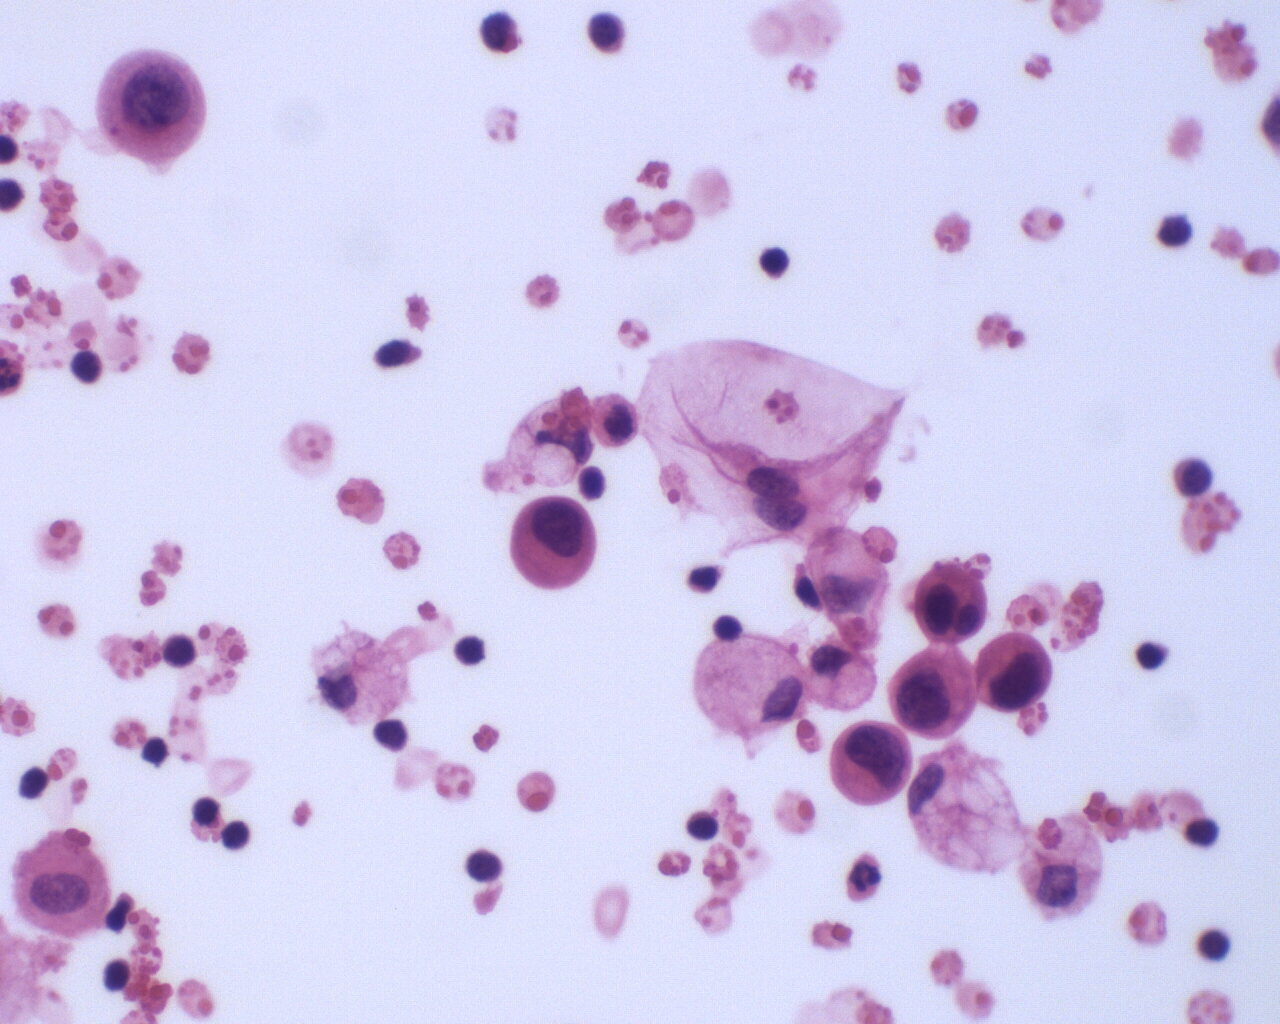ab: (95, 42, 210, 166), (497, 493, 608, 596), (889, 643, 979, 743), (827, 716, 914, 810), (978, 625, 1054, 718)
histo: (909, 743, 1026, 881), (690, 627, 809, 738), (1018, 811, 1110, 928), (802, 633, 880, 719)
lymph: (583, 8, 634, 59), (463, 839, 507, 887), (1194, 920, 1233, 971), (1171, 452, 1214, 497), (158, 627, 201, 672), (685, 801, 721, 850), (453, 628, 494, 670), (215, 814, 254, 854), (758, 243, 794, 283), (1133, 637, 1168, 671)
neutro: (843, 850, 883, 902)
